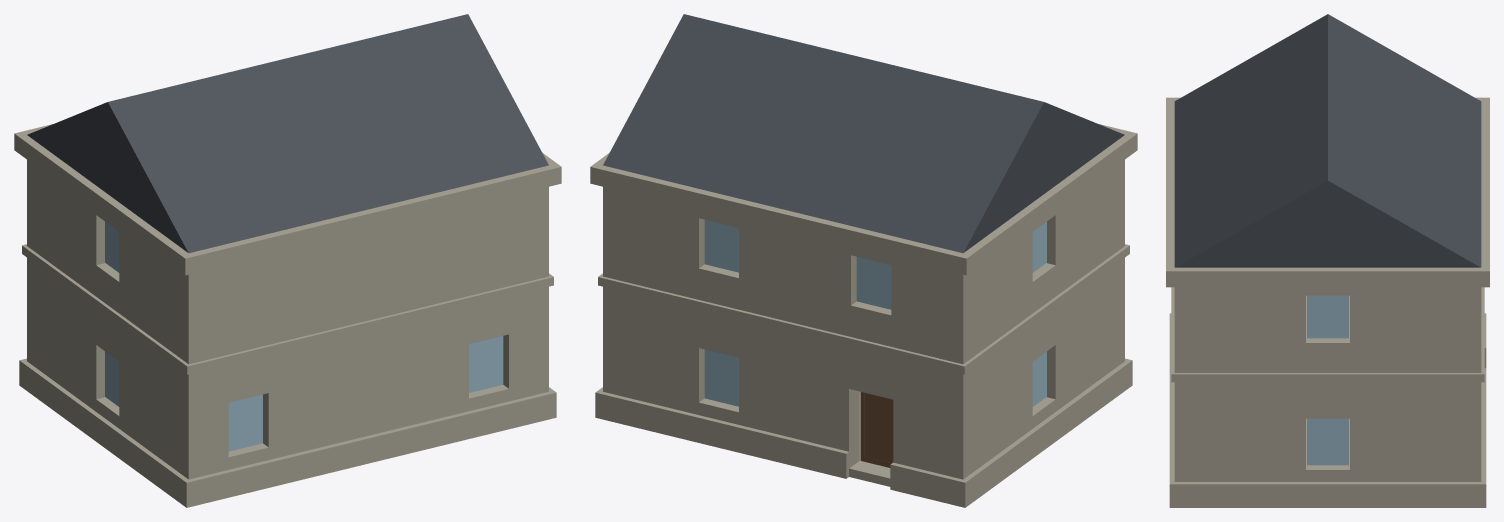
3 views of the same model, side by side, from view 1: azimuth 30°, elevation 25°; view 2: azimuth 150°, elevation 25°; view 3: azimuth 270°, elevation 25° (orthographic). The views are drawn at different scales.
Parts seen in each view (by area): view 1: body_stone, roof_slate, trim_stone, glass_glass (×4); view 2: body_stone, roof_slate, trim_stone, glass_glass (×5), door_timber; view 3: roof_slate, body_stone, trim_stone, glass_glass (×2).
Boxes of the visible parts, box(x1,y1,x2,y2) form: body_stone: box(27, 160, 548, 479); roof_slate: box(27, 14, 548, 253); trim_stone: box(14, 124, 561, 507); glass_glass (×4): box(105, 221, 503, 451); body_stone: box(603, 160, 1124, 486); roof_slate: box(603, 14, 1124, 253); trim_stone: box(590, 124, 1137, 507); glass_glass (×5): box(704, 219, 1046, 406); door_timber: box(860, 392, 893, 467); roof_slate: box(1174, 14, 1481, 267); body_stone: box(1174, 287, 1481, 481); trim_stone: box(1166, 97, 1489, 507); glass_glass (×2): box(1307, 295, 1348, 465).
Size of what is drawn, in the model's own units: 9.4 by 8.2 by 7.4.
